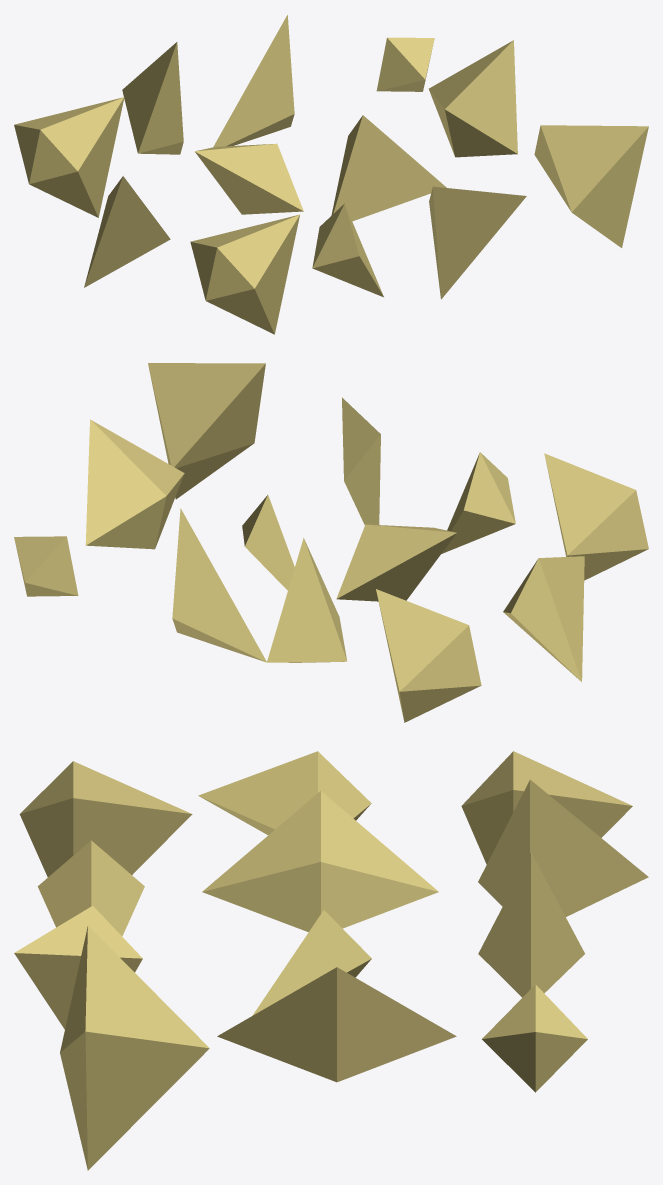
File: Lettuce-2.fbx
3 views of the same model, one above another, from view 1: azimuth 30°, elevation 25°; view 2: azimuth 150°, elevation 25°; view 3: azimuth 270°, elevation 25° (orthographic). The views are drawn at different scales.
Visible parts, largest first — view 1: Lettuce-2; view 2: Lettuce-2; view 3: Lettuce-2.
Part boxes in pixels (box(x1,y1,x2,y2)): Lettuce-2: box(14, 15, 648, 334); Lettuce-2: box(14, 363, 648, 722); Lettuce-2: box(14, 751, 648, 1170).
Bounding box in the file's own units: 74.49 × 23.96 × 63.72.
